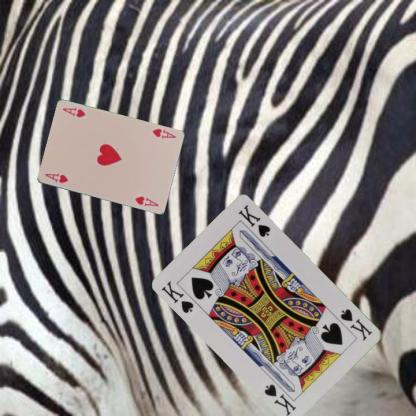Ah: (42, 170, 70, 184), (150, 126, 176, 140)
Ks: (159, 278, 195, 315), (338, 306, 374, 342)
